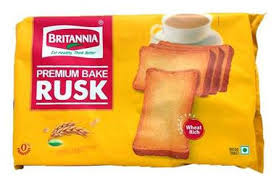Britania-toast-med: (16, 15, 268, 175)
